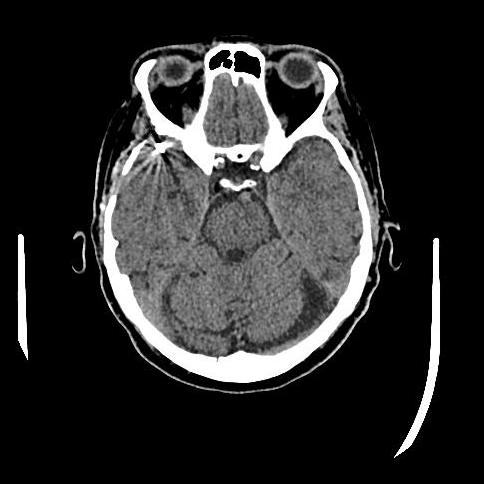Aneurysm: (132, 133, 187, 177)
